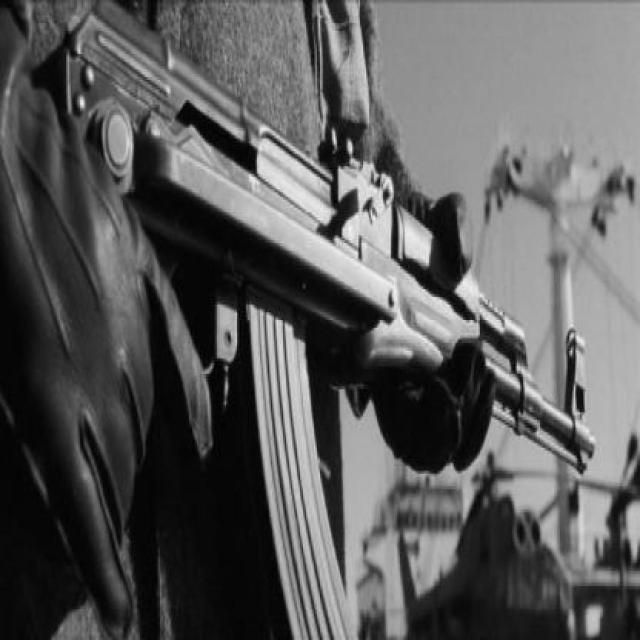weapon: (42, 1, 598, 640)
